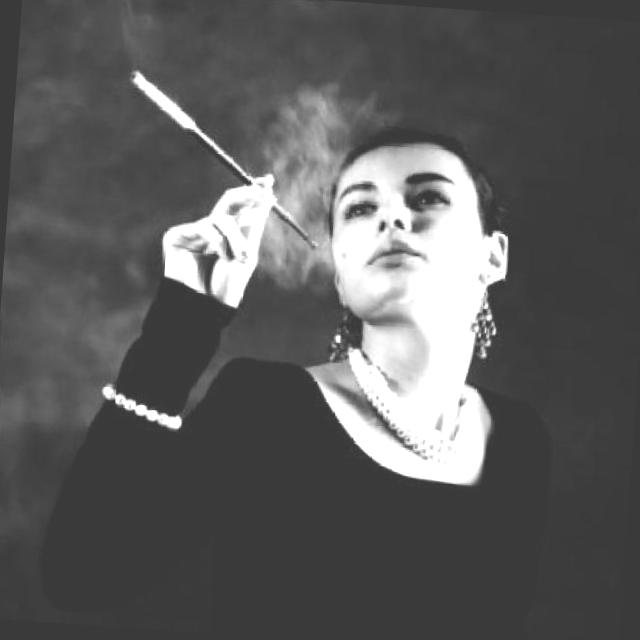smoke: (122, 64, 197, 134)
